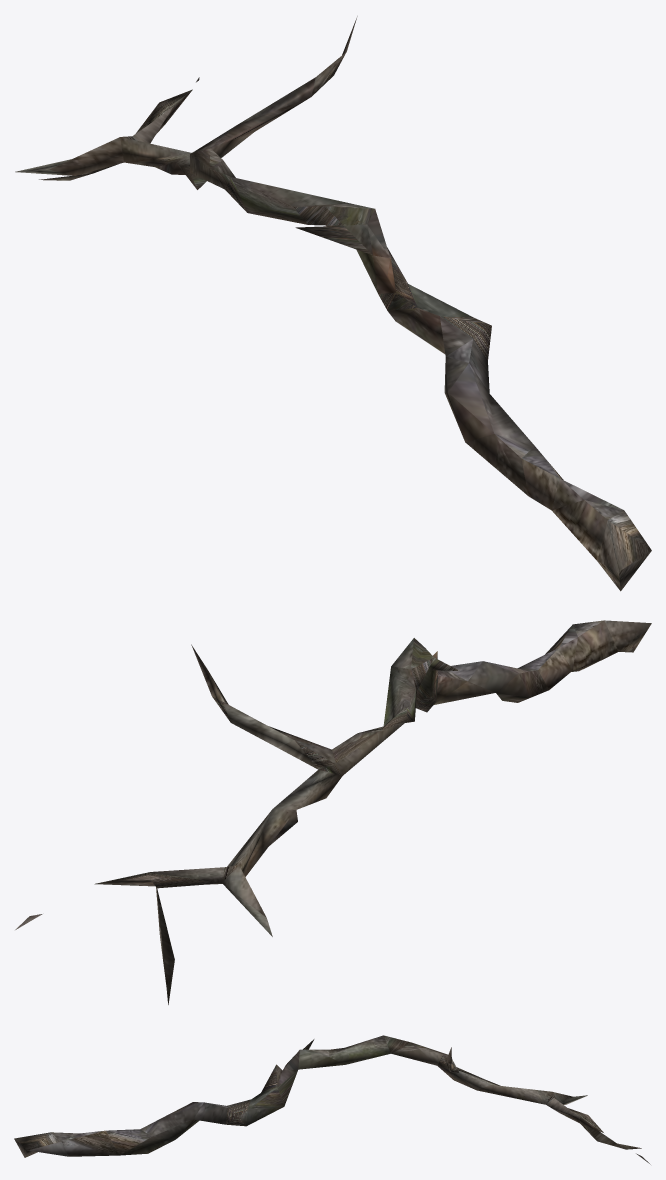
Rendered from stick_03.obj.
3 renders of one model, top to bottom at view 1: azimuth 30°, elevation 25°; view 2: azimuth 150°, elevation 25°; view 3: azimuth 270°, elevation 25°, orthographic. The views are drawn at different scales.
Parts seen in each view (by area): view 1: stick_03; view 2: stick_03; view 3: stick_03.
Part boxes in pixels (x1=…): stick_03: x1=15, y1=16, x2=651, y2=591; stick_03: x1=15, y1=620, x2=651, y2=1004; stick_03: x1=14, y1=1035, x2=650, y2=1164.
Bounding box in the file's own units: 0.3138 × 0.3255 × 1.3.
1 material, 1 textured.
